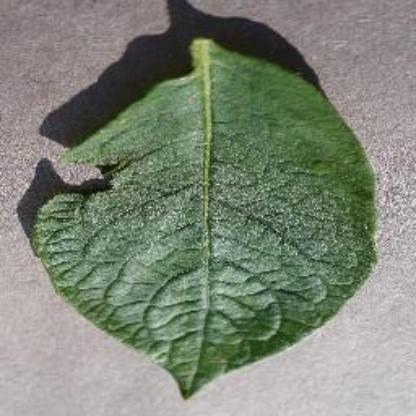Healthy-plant: (30, 30, 386, 401)
